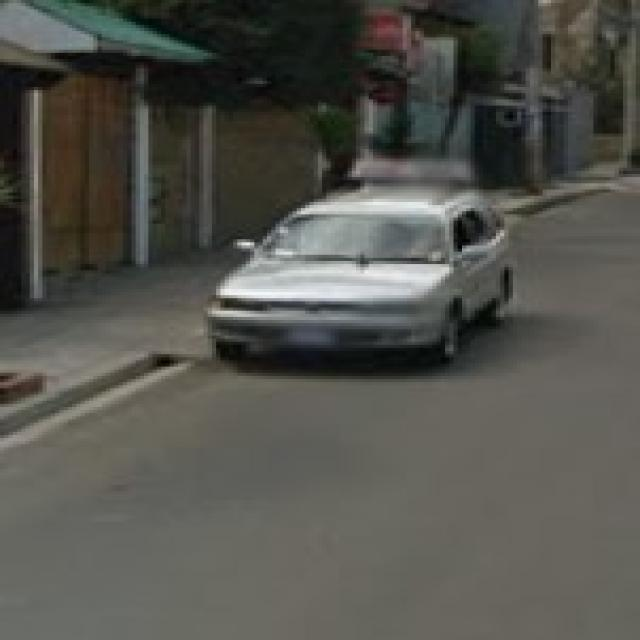Car: (224, 182, 520, 371)
